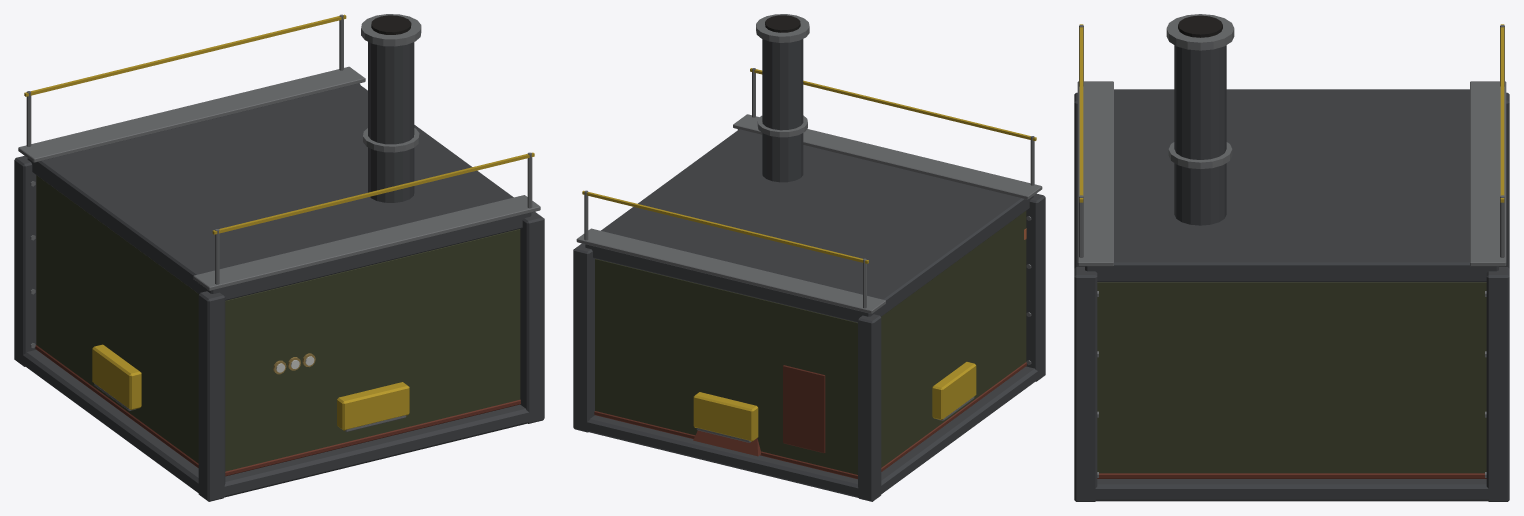
File: smelter_mk1.glb
The picture shows the model from 3 angles, left to right: view 1: azimuth 30°, elevation 25°; view 2: azimuth 150°, elevation 25°; view 3: azimuth 270°, elevation 25°; orthographic projection. The views are drawn at different scales.
Parts seen in each view (by area): view 1: smelter_mk1_CastIron, smelter_mk1_OliveDrab, smelter_mk1_WeldedSteel, smelter_mk1_HazardYellow, smelter_mk1_OxideRed, smelter_mk1_Soot; view 2: smelter_mk1_CastIron, smelter_mk1_OliveDrab, smelter_mk1_WeldedSteel, smelter_mk1_HazardYellow, smelter_mk1_OxideRed, smelter_mk1_Soot; view 3: smelter_mk1_CastIron, smelter_mk1_OliveDrab, smelter_mk1_WeldedSteel, smelter_mk1_OxideRed, smelter_mk1_HazardYellow, smelter_mk1_Soot.
Boxes of the visible parts, box(x1,y1,x2,y2) form: smelter_mk1_CastIron: box(14, 42, 544, 501); smelter_mk1_OliveDrab: box(36, 175, 520, 471); smelter_mk1_WeldedSteel: box(18, 14, 540, 432); smelter_mk1_HazardYellow: box(24, 14, 534, 430); smelter_mk1_OxideRed: box(35, 345, 520, 476); smelter_mk1_Soot: box(371, 15, 411, 34); smelter_mk1_CastIron: box(573, 39, 1045, 501); smelter_mk1_OliveDrab: box(595, 211, 1026, 474); smelter_mk1_WeldedSteel: box(576, 14, 1042, 442); smelter_mk1_HazardYellow: box(582, 68, 1036, 441); smelter_mk1_OxideRed: box(594, 362, 1026, 479); smelter_mk1_Soot: box(705, 15, 800, 404); smelter_mk1_CastIron: box(1074, 45, 1509, 501); smelter_mk1_OliveDrab: box(1097, 282, 1486, 473); smelter_mk1_WeldedSteel: box(1077, 14, 1506, 477); smelter_mk1_OxideRed: box(1097, 473, 1486, 478); smelter_mk1_HazardYellow: box(1079, 24, 1504, 202); smelter_mk1_Soot: box(1178, 15, 1222, 37).
Size of the model in its own units: 6 by 6.45 by 6.
